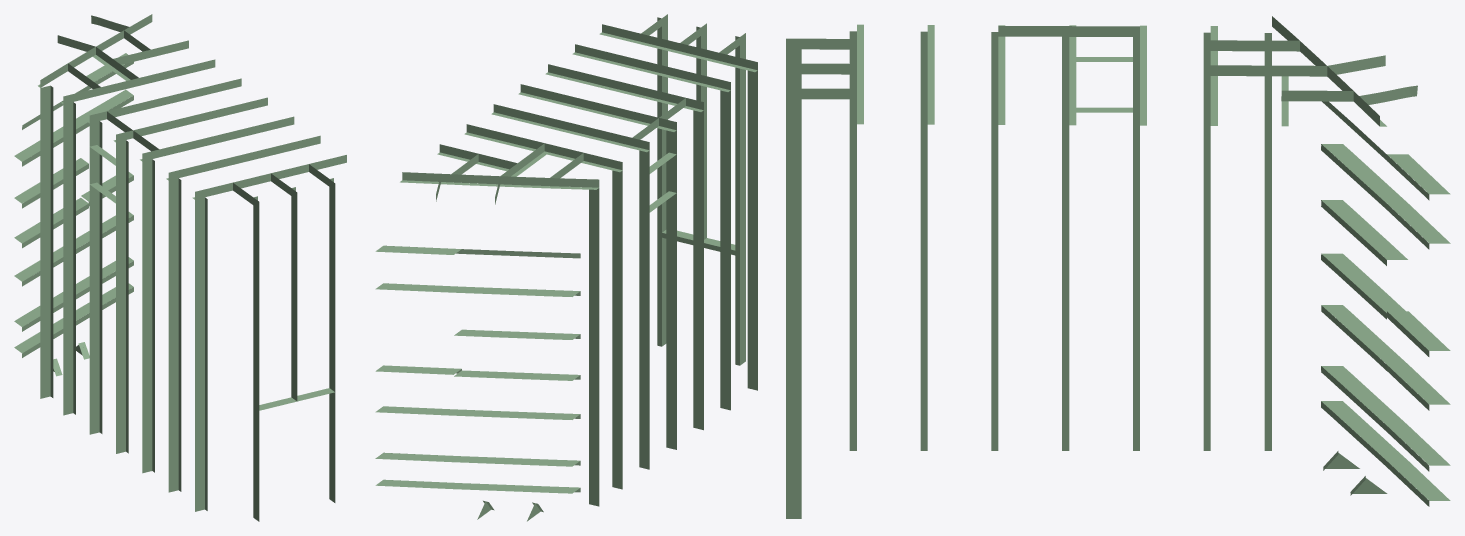
File: WELDING_WORKSHOP.glb
3 views of the same model, side by side, from view 1: azimuth 30°, elevation 25°; view 2: azimuth 150°, elevation 25°; view 3: azimuth 270°, elevation 25° (orthographic). The views are drawn at different scales.
Visible parts, largest first — view 1: ST_SideTransxFR2PxWeb_003001-IA_200x90x9x14_NVA36_2014, ST_SideTransxFR2PxWeb_008001-IA_200x90x9x14_NVA36_2014, ST_SideTransxFR2PxWeb_009001-IA_200x90x9x14_NVA36_2014, ST_SideTransxFR2PxWeb_007001-IA_200x90x9x14_NVA36_2014, ST_SideTransxFR2PxWeb_004001-IA_200x90x9x14_NVA36_2014, ST_SideTransxFR2PxWeb_002001-IA_200x90x9x14_NVA36_2014, ST_SideTransxFR2PxWeb_001001-IA_200x90x9x14_NVA36_2014, ST_No8LBHDxAPTPxWeb_014001-IA_200x90x9x14_NVA_1993, ST_No8LBHDxAPTPxWeb_013001-IA_200x90x9x14_NVA_1993, ST_No8LBHDxAPTPxWeb_005001-IA_200x90x9x14_NVA_1993, ST_SideTransxFR2PxFLG_009001-IA_200x90x9x14_NVA36_2014, ST_SideTransxFR2PxFLG_007001-IA_200x90x9x14_NVA36_2014 (+38 smaller); view 2: ST_SideTransxFR2PxWeb_003001-IA_200x90x9x14_NVA36_2014, ST_SideTransxFR2PxWeb_007001-IA_200x90x9x14_NVA36_2014, ST_SideTransxFR2PxWeb_008001-IA_200x90x9x14_NVA36_2014, ST_SideTransxFR2PxWeb_009001-IA_200x90x9x14_NVA36_2014, ST_SideTransxFR2PxWeb_004001-IA_200x90x9x14_NVA36_2014, ST_SideTransxFR2PxWeb_001001-IA_200x90x9x14_NVA36_2014, ST_SideTransxFR2PxWeb_002001-IA_200x90x9x14_NVA36_2014, ST_No8LBHDxAPTPxWeb_014001-IA_200x90x9x14_NVA_1993, ST_No8LBHDxAPTPxFLG_023001-IA_200x90x9x14_NVA_1993, ST_UDxAPTPxDL30xWeb_057003-IA_150x90x12x12_NVA_1993, ST_No8LBHDxAPTPxWeb_013001-IA_200x90x9x14_NVA_1993, ST_No8LBHDxAPTPxFLG_019001-IA_200x90x9x14_NVA_1993 (+38 smaller); view 3: ST_No8LBHDxAPTPxWeb_013001-IA_200x90x9x14_NVA_1993, ST_SideTransxFR2PxFLG_003001-IA_200x90x9x14_NVA36_2014, ST_SideTransxFR2PxFLG_008001-IA_200x90x9x14_NVA36_2014, ST_SideTransxFR2PxFLG_004001-IA_200x90x9x14_NVA36_2014, ST_SideTransxFR2PxFLG_009001-IA_200x90x9x14_NVA36_2014, ST_SideTransxFR2PxFLG_007001-IA_200x90x9x14_NVA36_2014, ST_SideTransxFR2PxFLG_002001-IA_200x90x9x14_NVA36_2014, ST_SideTransxFR2PxFLG_001001-IA_200x90x9x14_NVA36_2014, ST_UDxAPTP_006001-FB_150x12_NVA36_2014, ST_No8LBHDxAPTPxWeb_013002-IA_200x90x9x14_NVA_1993, ST_UDxAPTPxWeb_065001-IA_150x90x9x9_NVA_1993, ST_OuterShellxAPTPxL60xWeb_001003-IA_265x90x10x15_NVA32_1993 (+19 smaller).
Part boxes in pixels (x1=…): ST_SideTransxFR2PxWeb_003001-IA_200x90x9x14_NVA36_2014: x1=142, y1=159, x2=152, y2=401; ST_SideTransxFR2PxWeb_008001-IA_200x90x9x14_NVA36_2014: x1=63, y1=102, x2=73, y2=343; ST_SideTransxFR2PxWeb_009001-IA_200x90x9x14_NVA36_2014: x1=40, y1=85, x2=50, y2=327; ST_SideTransxFR2PxWeb_007001-IA_200x90x9x14_NVA36_2014: x1=89, y1=121, x2=99, y2=362; ST_SideTransxFR2PxWeb_004001-IA_200x90x9x14_NVA36_2014: x1=116, y1=140, x2=125, y2=382; ST_SideTransxFR2PxWeb_002001-IA_200x90x9x14_NVA36_2014: x1=168, y1=178, x2=178, y2=380; ST_SideTransxFR2PxWeb_001001-IA_200x90x9x14_NVA36_2014: x1=195, y1=197, x2=204, y2=399; ST_No8LBHDxAPTPxWeb_014001-IA_200x90x9x14_NVA_1993: x1=253, y1=197, x2=259, y2=449; ST_No8LBHDxAPTPxWeb_013001-IA_200x90x9x14_NVA_1993: x1=329, y1=179, x2=335, y2=431; ST_No8LBHDxAPTPxWeb_005001-IA_200x90x9x14_NVA_1993: x1=291, y1=188, x2=297, y2=401; ST_SideTransxFR2PxFLG_009001-IA_200x90x9x14_NVA36_2014: x1=50, y1=86, x2=53, y2=326; ST_SideTransxFR2PxFLG_007001-IA_200x90x9x14_NVA36_2014: x1=99, y1=121, x2=102, y2=362; ST_SideTransxFR2PxWeb_003001-IA_200x90x9x14_NVA36_2014: x1=693, y1=110, x2=703, y2=356; ST_SideTransxFR2PxWeb_007001-IA_200x90x9x14_NVA36_2014: x1=639, y1=150, x2=649, y2=396; ST_SideTransxFR2PxWeb_008001-IA_200x90x9x14_NVA36_2014: x1=612, y1=170, x2=622, y2=415; ST_SideTransxFR2PxWeb_009001-IA_200x90x9x14_NVA36_2014: x1=589, y1=188, x2=599, y2=432; ST_SideTransxFR2PxWeb_004001-IA_200x90x9x14_NVA36_2014: x1=666, y1=130, x2=676, y2=376; ST_SideTransxFR2PxWeb_001001-IA_200x90x9x14_NVA36_2014: x1=747, y1=70, x2=757, y2=275; ST_SideTransxFR2PxWeb_002001-IA_200x90x9x14_NVA36_2014: x1=720, y1=90, x2=730, y2=295; ST_No8LBHDxAPTPxWeb_014001-IA_200x90x9x14_NVA_1993: x1=740, y1=33, x2=745, y2=291; ST_No8LBHDxAPTPxFLG_023001-IA_200x90x9x14_NVA_1993: x1=735, y1=36, x2=739, y2=292; ST_UDxAPTPxDL30xWeb_057003-IA_150x90x12x12_NVA_1993: x1=480, y1=175, x2=599, y2=187; ST_No8LBHDxAPTPxWeb_013001-IA_200x90x9x14_NVA_1993: x1=662, y1=14, x2=667, y2=272; ST_No8LBHDxAPTPxFLG_019001-IA_200x90x9x14_NVA_1993: x1=657, y1=17, x2=661, y2=273; ST_No8LBHDxAPTPxWeb_013001-IA_200x90x9x14_NVA_1993: x1=786, y1=89, x2=801, y2=422; ST_SideTransxFR2PxFLG_003001-IA_200x90x9x14_NVA36_2014: x1=991, y1=32, x2=998, y2=354; ST_SideTransxFR2PxFLG_008001-IA_200x90x9x14_NVA36_2014: x1=1203, y1=32, x2=1210, y2=354; ST_SideTransxFR2PxFLG_004001-IA_200x90x9x14_NVA36_2014: x1=1062, y1=36, x2=1069, y2=354; ST_SideTransxFR2PxFLG_009001-IA_200x90x9x14_NVA36_2014: x1=1264, y1=33, x2=1271, y2=354; ST_SideTransxFR2PxFLG_007001-IA_200x90x9x14_NVA36_2014: x1=1133, y1=37, x2=1139, y2=354; ST_SideTransxFR2PxFLG_002001-IA_200x90x9x14_NVA36_2014: x1=920, y1=31, x2=927, y2=300; ST_SideTransxFR2PxFLG_001001-IA_200x90x9x14_NVA36_2014: x1=849, y1=31, x2=856, y2=300; ST_UDxAPTP_006001-FB_150x12_NVA36_2014: x1=998, y1=26, x2=1139, y2=36; ST_No8LBHDxAPTPxWeb_013002-IA_200x90x9x14_NVA_1993: x1=786, y1=422, x2=801, y2=518; ST_UDxAPTPxWeb_065001-IA_150x90x9x9_NVA_1993: x1=1210, y1=65, x2=1327, y2=76; ST_OuterShellxAPTPxL60xWeb_001003-IA_265x90x10x15_NVA32_1993: x1=1321, y1=200, x2=1407, y2=259.
Size of the model in its own units: 3 by 6.04 by 8.45.
